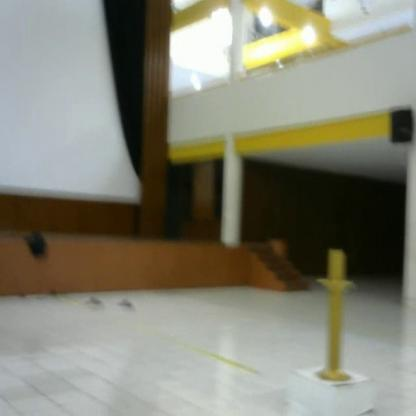pole: (311, 247, 363, 388)
